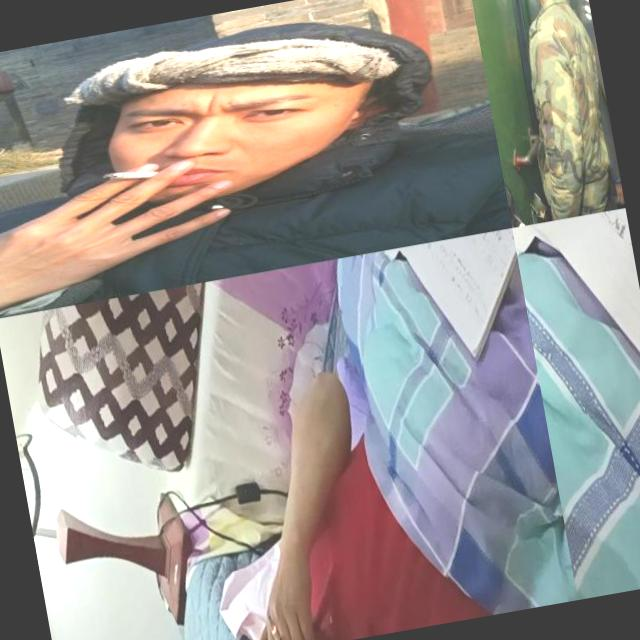cigarette: (0, 161, 186, 314), (243, 570, 318, 640)
